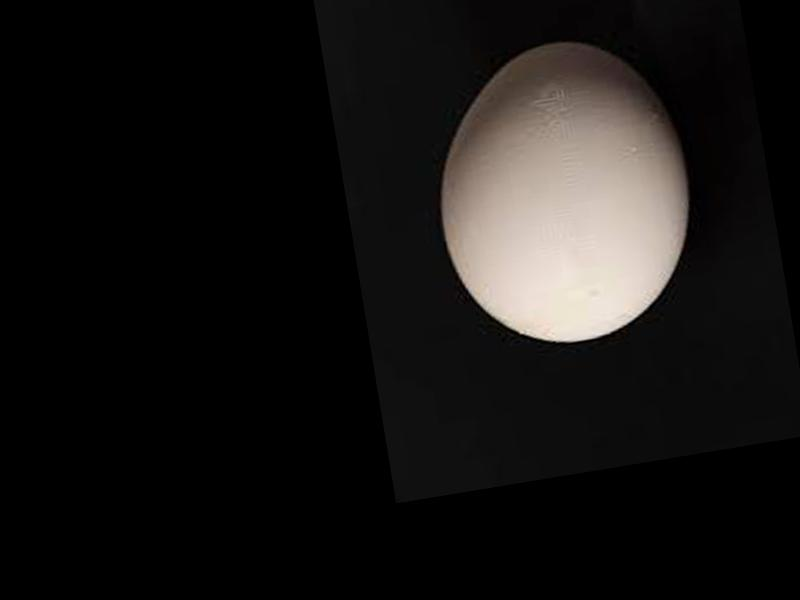Eggs: (417, 26, 708, 362)
